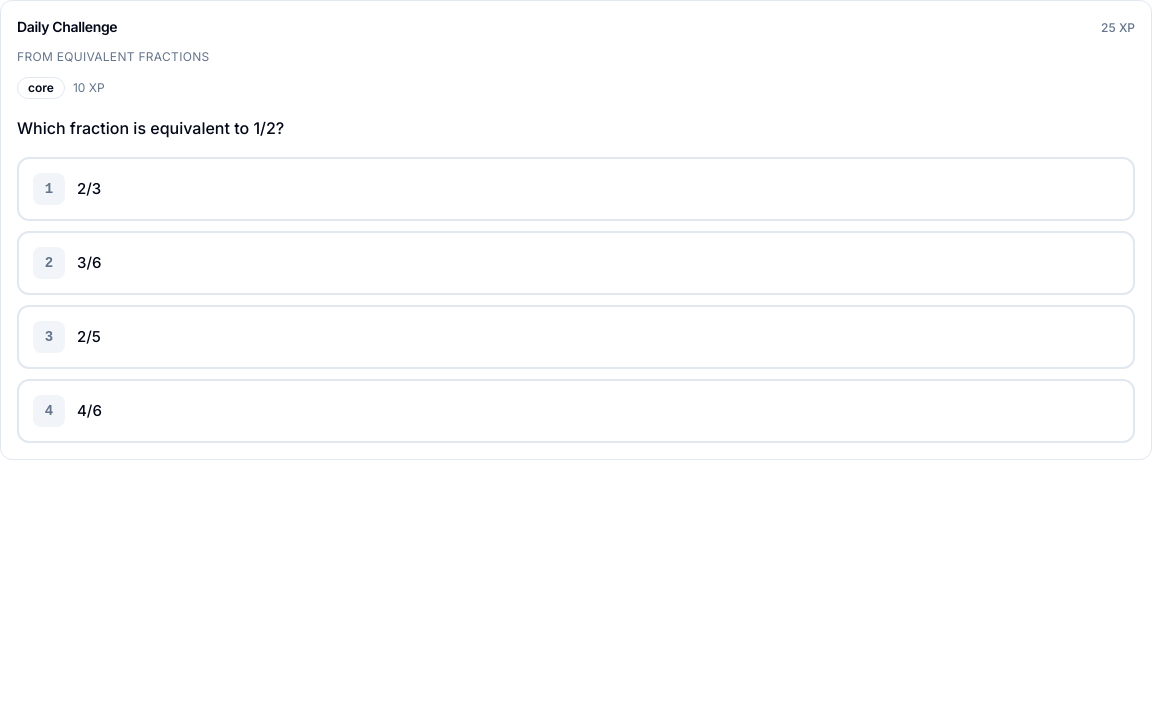
it: DailyChallengeCard › locks the card and POSTs after a correct answer, celebrating any badge unlocks
Click the text "3/6": (89, 263) [77,253,101,273]
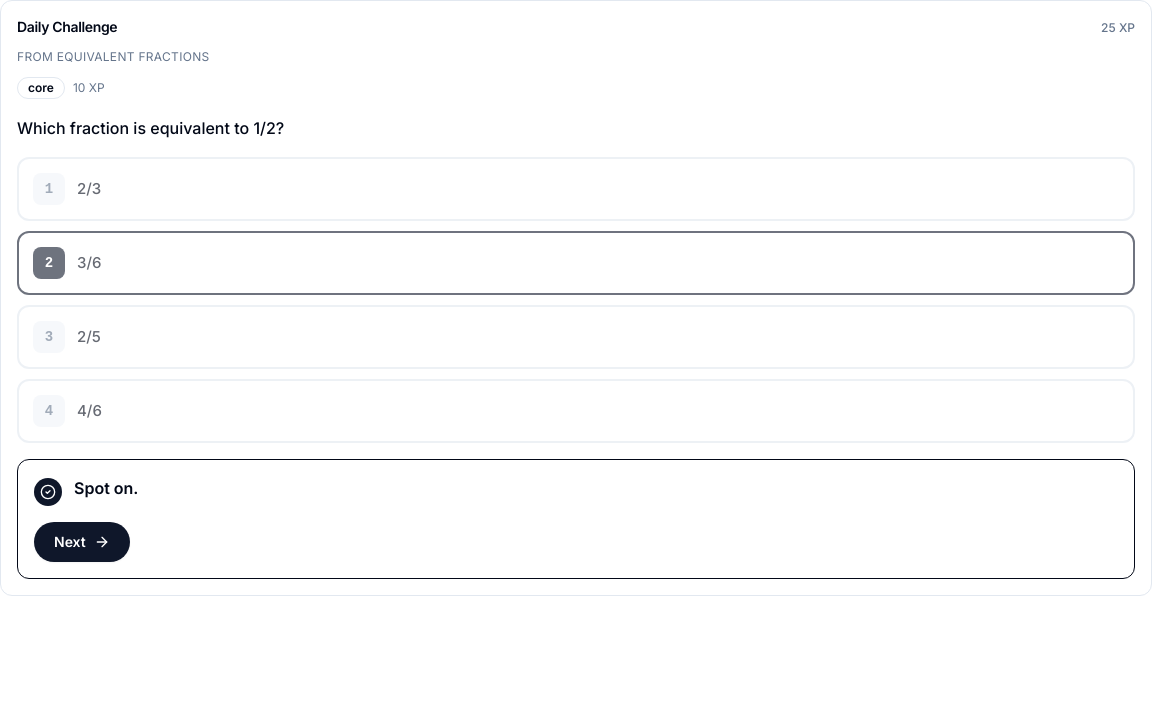
Click the button "Next": (82, 542) [34,522,130,562]
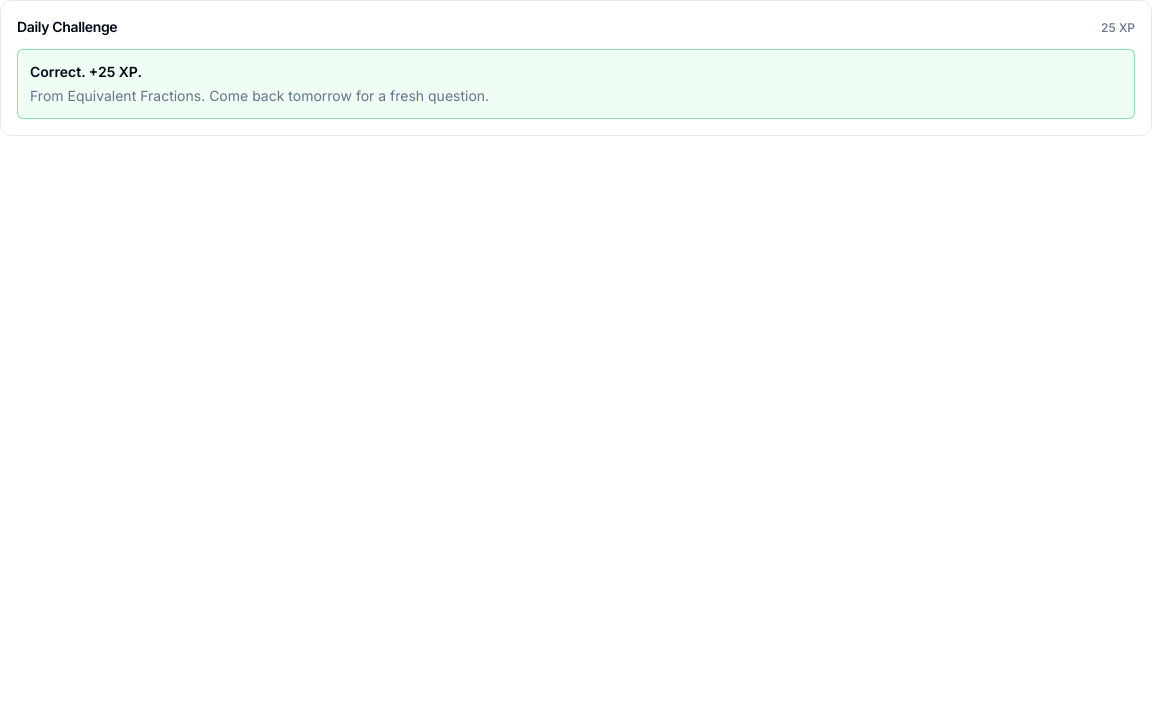
Expected: the message with test id "daily-challenge-terminal" is shown, [17,49,1135,119]
